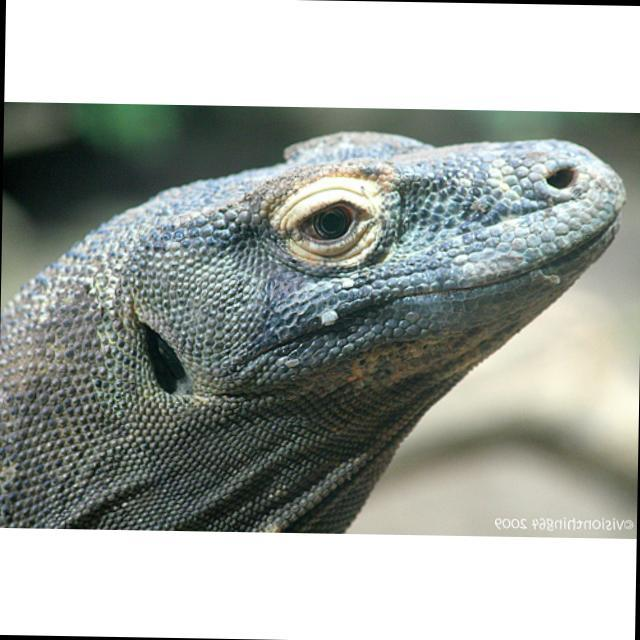KomodoDragon: (0, 120, 632, 536)
